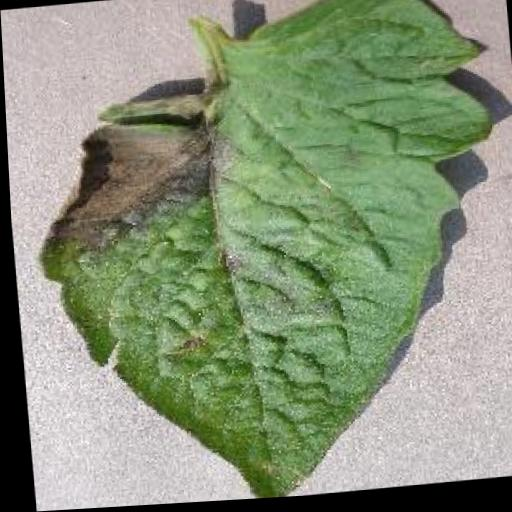Late Blight: (16, 0, 512, 511)
